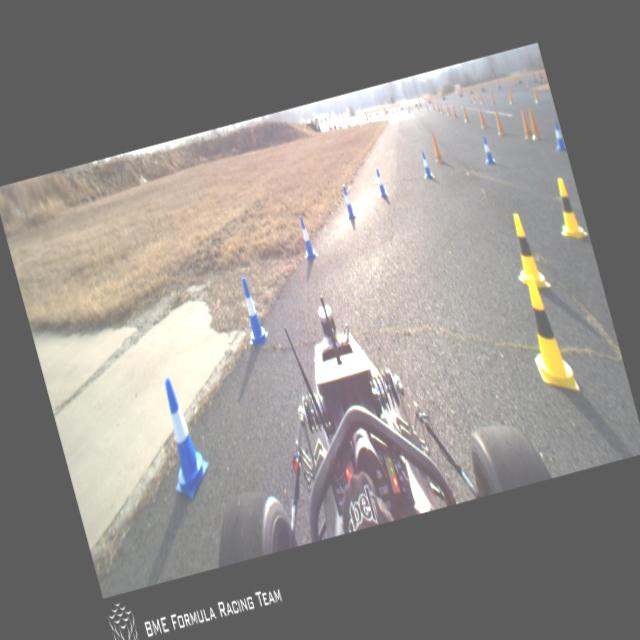blue_cone: (146, 372, 217, 503), (232, 274, 270, 348), (294, 214, 318, 260), (339, 184, 356, 219), (548, 119, 566, 152), (372, 166, 388, 198), (479, 136, 496, 166), (418, 150, 434, 180)
unknown_cone: (524, 108, 542, 140), (516, 106, 534, 138), (428, 130, 444, 164), (491, 108, 505, 134), (476, 105, 488, 129), (460, 104, 470, 122), (450, 102, 458, 120), (532, 86, 540, 102), (444, 102, 452, 116), (507, 90, 514, 104), (488, 90, 494, 104), (439, 105, 443, 114)
yellow_cone: (514, 270, 580, 400), (502, 208, 552, 296), (546, 172, 588, 245)
